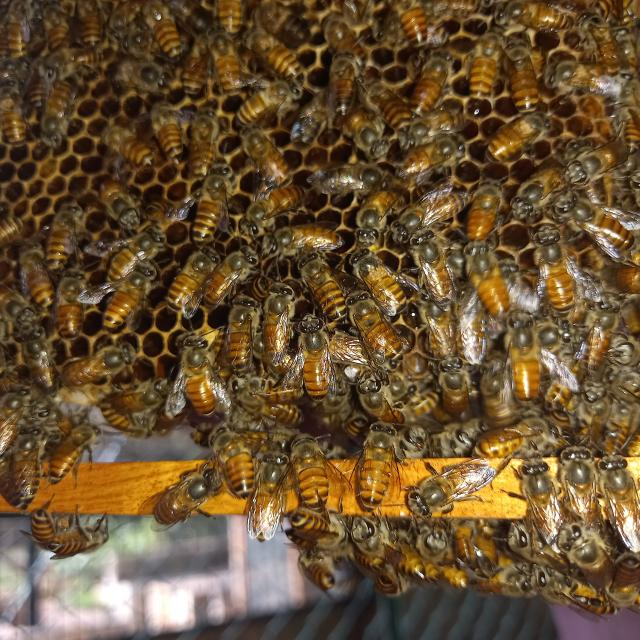honeybee: (522, 224, 596, 320), (156, 333, 234, 420), (498, 310, 564, 403), (72, 262, 156, 334), (554, 192, 640, 258), (342, 421, 405, 511), (389, 179, 469, 244), (278, 435, 344, 512), (342, 288, 406, 367), (407, 461, 497, 517), (531, 564, 621, 620), (458, 240, 516, 322), (292, 250, 354, 325), (289, 316, 343, 402), (557, 522, 616, 599), (240, 453, 292, 540), (352, 247, 411, 322), (409, 232, 464, 312), (497, 34, 550, 117), (161, 245, 218, 321), (592, 457, 640, 547), (558, 446, 604, 539), (242, 177, 312, 238), (247, 30, 309, 98), (94, 224, 169, 280), (148, 465, 218, 525), (185, 160, 235, 240), (515, 458, 564, 539), (199, 242, 259, 307), (256, 284, 300, 371), (206, 424, 256, 500), (238, 126, 296, 191), (576, 290, 620, 375), (554, 54, 640, 96), (347, 367, 404, 429), (221, 289, 262, 375), (474, 420, 562, 460), (60, 341, 135, 387), (568, 133, 630, 186), (99, 388, 163, 439), (460, 29, 502, 106), (48, 422, 100, 484), (285, 504, 348, 554), (395, 135, 459, 184), (484, 110, 544, 162), (11, 241, 56, 310), (16, 329, 61, 398), (296, 160, 390, 193), (510, 167, 568, 220), (205, 30, 250, 98), (352, 186, 402, 247), (233, 82, 291, 134), (503, 521, 567, 568), (94, 125, 159, 171), (604, 373, 640, 456), (137, 0, 185, 61), (146, 102, 192, 165), (39, 75, 84, 139), (42, 519, 113, 559), (412, 47, 453, 116), (112, 56, 172, 102), (6, 427, 40, 508), (470, 566, 551, 600), (396, 110, 471, 146), (362, 78, 411, 133), (499, 1, 577, 35), (44, 201, 82, 269), (580, 14, 626, 70), (49, 270, 86, 339), (94, 179, 142, 232), (0, 75, 36, 144), (347, 515, 393, 569), (464, 177, 500, 246), (185, 108, 222, 175), (603, 88, 640, 154), (178, 31, 213, 98), (434, 358, 474, 416), (457, 523, 498, 574), (261, 230, 340, 256), (245, 396, 309, 428), (0, 0, 34, 60), (386, 0, 430, 45), (0, 284, 39, 334), (295, 553, 340, 595), (339, 112, 388, 149), (21, 502, 57, 552), (326, 49, 356, 108), (610, 551, 640, 608), (0, 382, 21, 460), (399, 385, 447, 419), (295, 98, 329, 146), (414, 520, 452, 561), (75, 1, 106, 50), (42, 0, 69, 53), (61, 42, 126, 64), (227, 366, 270, 399), (387, 543, 424, 580), (210, 2, 249, 34), (107, 0, 139, 30), (0, 215, 25, 249), (434, 0, 494, 12), (588, 0, 618, 21)
